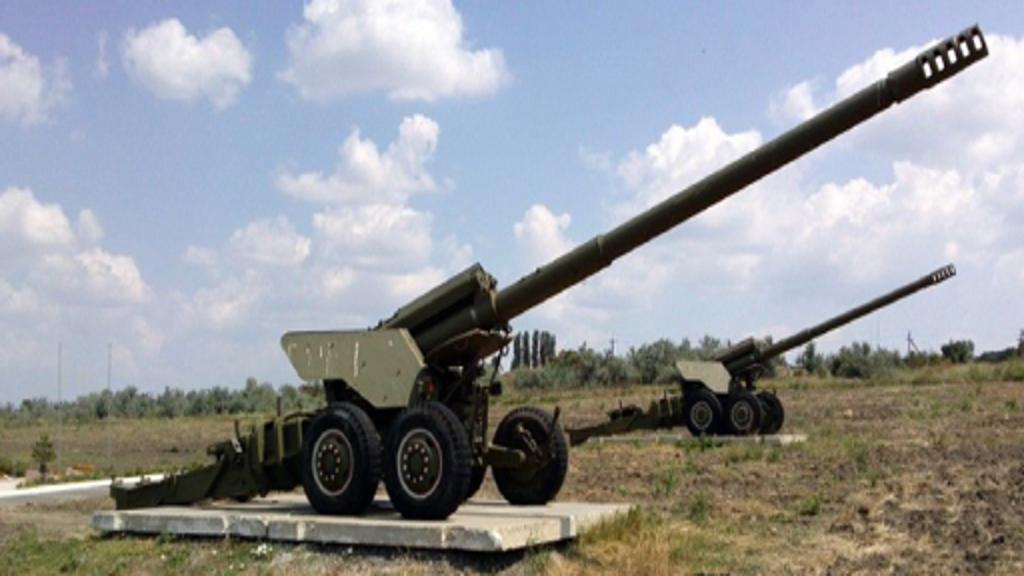ART: (108, 21, 990, 510), (566, 255, 958, 447)
